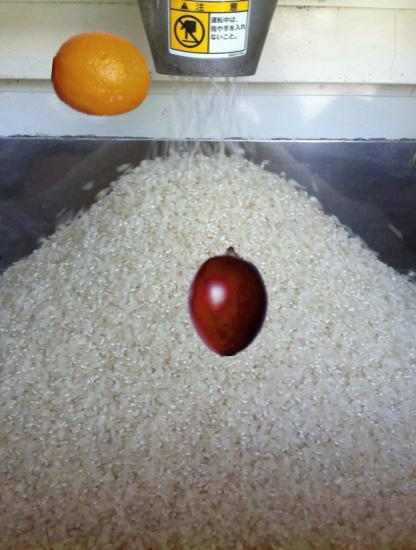Lemon: (52, 23, 154, 125)
Tamarillo: (174, 247, 283, 356)
